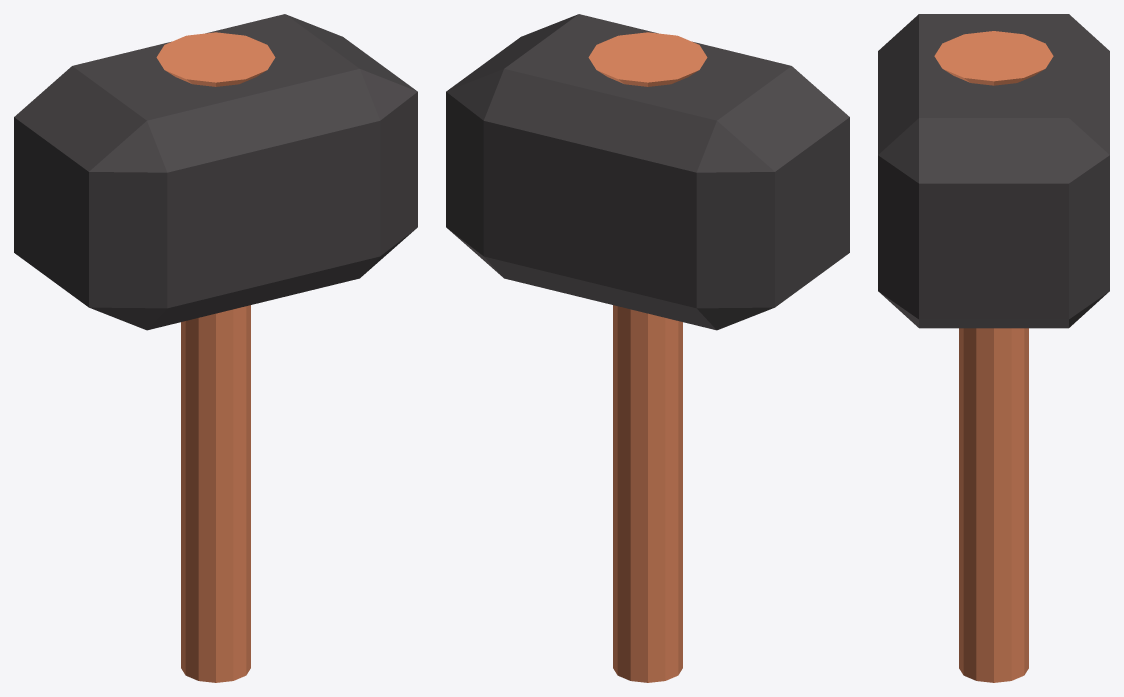
File: hammer.fbx
3 renders of one model, left to right at view 1: azimuth 30°, elevation 25°; view 2: azimuth 150°, elevation 25°; view 3: azimuth 270°, elevation 25°, orthographic.
Parts seen in each view (by area): view 1: Cube; view 2: Cube; view 3: Cube.
Part boxes in pixels (x1,y1,x2,y2): Cube: [14, 14, 417, 682]; Cube: [446, 14, 849, 682]; Cube: [878, 14, 1109, 682].
Size of the model in its own units: 319 by 566 by 194.
